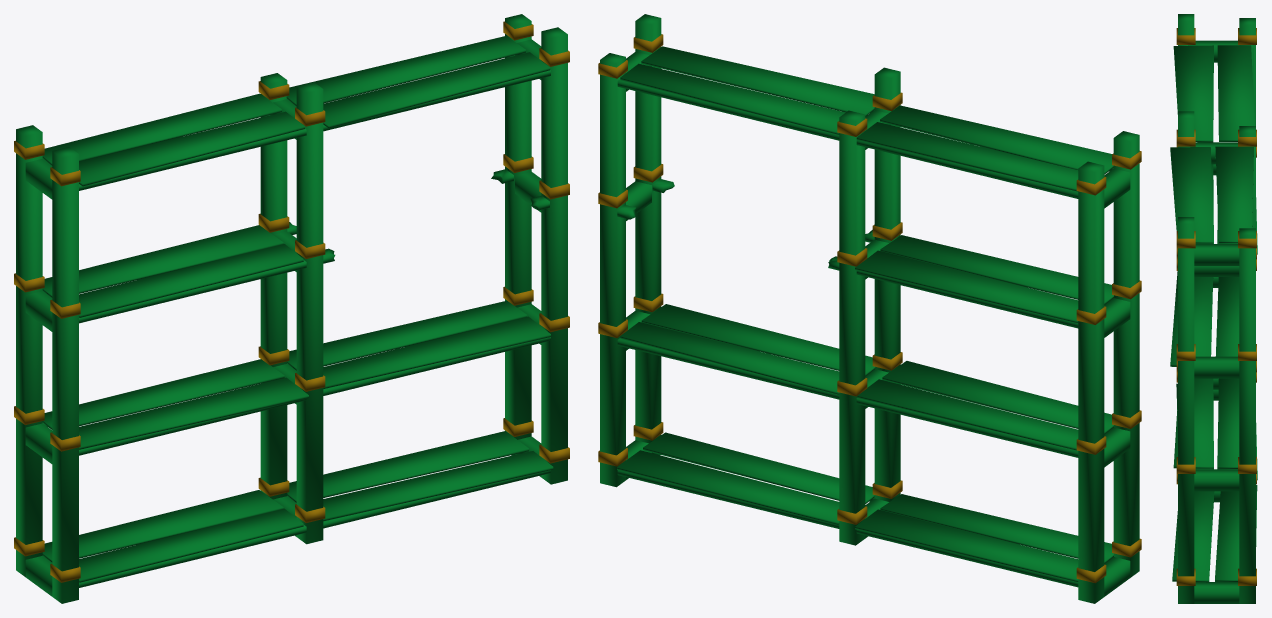
Rendered from etagere_casser_reserve_low.fbx.
3 renders of one model, left to right at view 1: azimuth 30°, elevation 25°; view 2: azimuth 150°, elevation 25°; view 3: azimuth 270°, elevation 25°, orthographic. The views are drawn at different scales.
Visible parts, largest first — view 1: etagere_casser_reserve_low; view 2: etagere_casser_reserve_low; view 3: etagere_casser_reserve_low.
Boxes of the visible parts, x1,y1,x2,y2 form: etagere_casser_reserve_low: (14, 14, 569, 603); etagere_casser_reserve_low: (598, 14, 1141, 603); etagere_casser_reserve_low: (1170, 14, 1257, 603).
Size of the model in its own units: 603 by 511 by 105.
